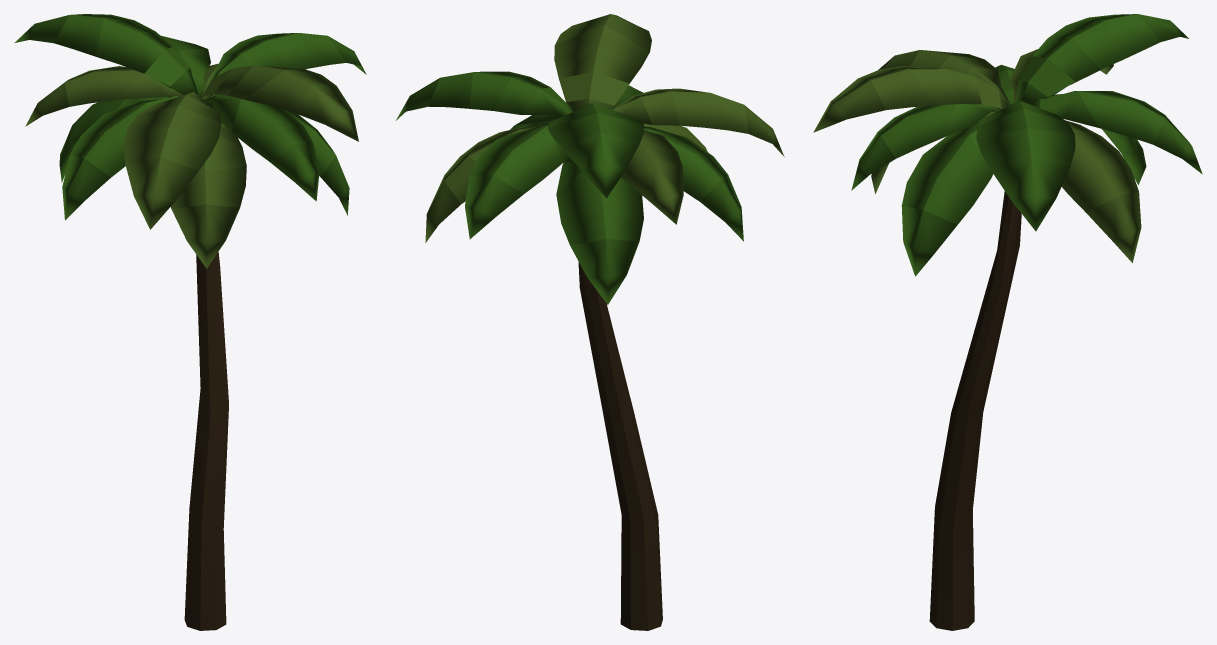
Rendered from LowPolyPalm.obj.
3 renders of one model, left to right at view 1: azimuth 30°, elevation 25°; view 2: azimuth 150°, elevation 25°; view 3: azimuth 270°, elevation 25°, orthographic. The views are drawn at different scales.
Parts seen in each view (by area): view 1: Palm-tree_Cylinder; view 2: Palm-tree_Cylinder; view 3: Palm-tree_Cylinder.
Boxes of the visible parts, x1,y1,x2,y2 form: Palm-tree_Cylinder: [14, 14, 366, 630]; Palm-tree_Cylinder: [396, 14, 784, 630]; Palm-tree_Cylinder: [813, 14, 1202, 630].
Bounding box in the file's own units: 3.25 × 5.4 × 3.25.
